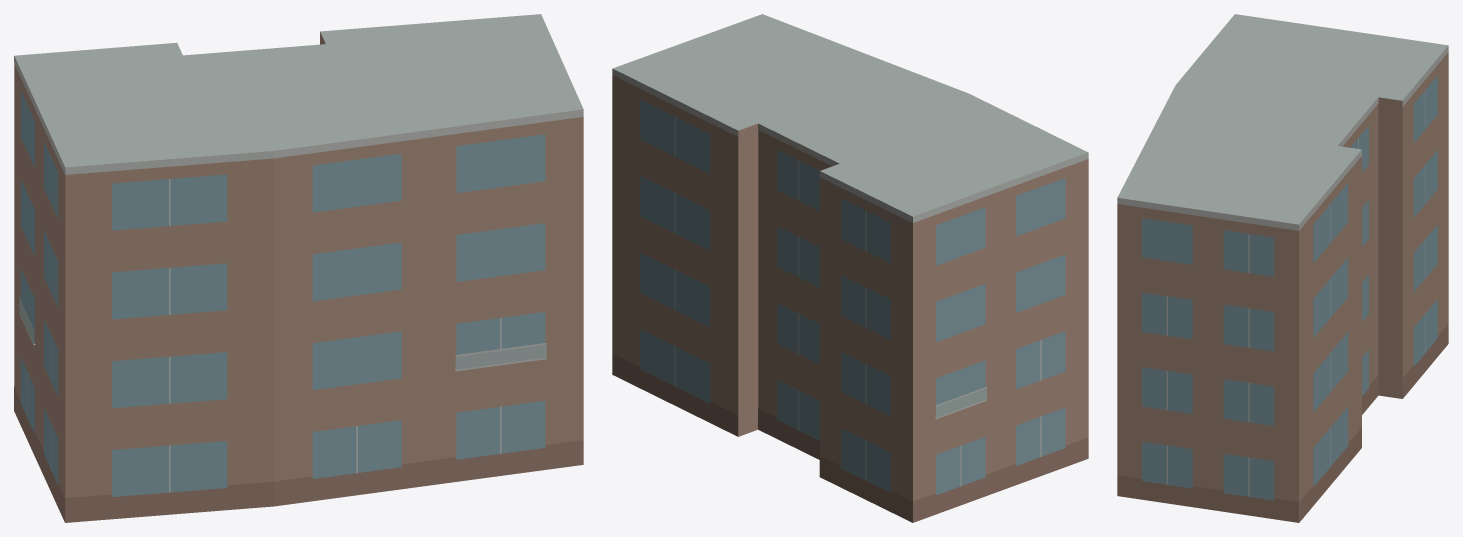
The model's file is survey-upis-32861434.glb.
3 renders of one model, left to right at view 1: azimuth 30°, elevation 25°; view 2: azimuth 150°, elevation 25°; view 3: azimuth 270°, elevation 25°, orthographic. The views are drawn at different scales.
Parts seen in each view (by area): view 1: survey-upis-32861434.tmp; view 2: survey-upis-32861434.tmp; view 3: survey-upis-32861434.tmp.
Part boxes in pixels (x1=…): survey-upis-32861434.tmp: x1=14, y1=14, x2=583, y2=522; survey-upis-32861434.tmp: x1=612, y1=14, x2=1088, y2=522; survey-upis-32861434.tmp: x1=1117, y1=14, x2=1448, y2=522.
Size of the model in its own units: 17.67 by 11.66 by 11.75.
